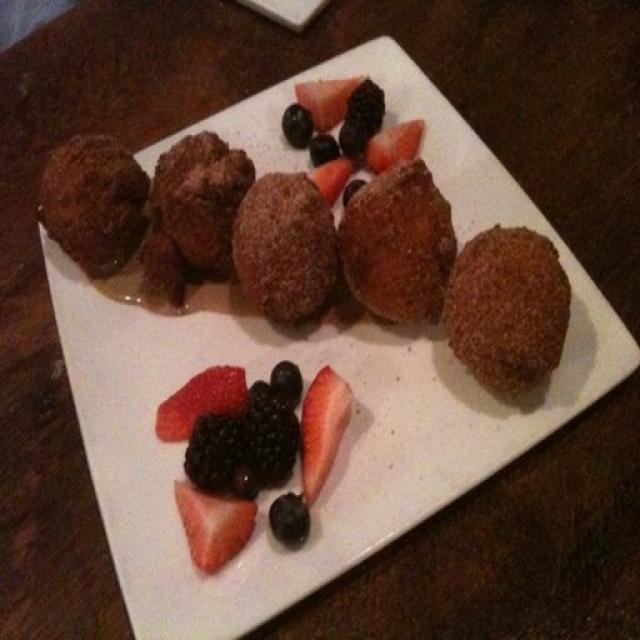Donuts: (25, 123, 614, 359)
Mushroom: (169, 480, 265, 578), (302, 367, 353, 502), (150, 363, 244, 431)
